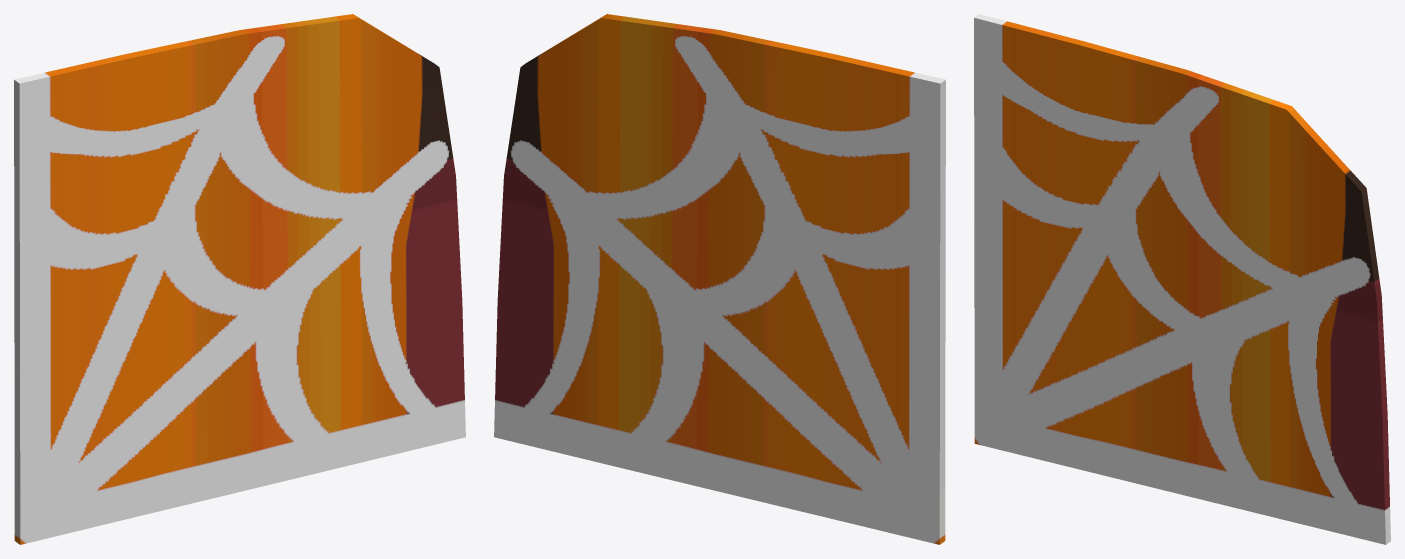
File: Spider_web_5.FBX
3 views of the same model, side by side, from view 1: azimuth 30°, elevation 25°; view 2: azimuth 150°, elevation 25°; view 3: azimuth 330°, elevation 25° (orthographic). The views are drawn at different scales.
Visible parts, largest first — view 1: Spider_web; view 2: Spider_web; view 3: Spider_web.
Part boxes in pixels (box(x1,y1,x2,y2)): Spider_web: box(14, 14, 465, 544); Spider_web: box(494, 14, 945, 544); Spider_web: box(974, 14, 1390, 544).
Size of the model in its own units: 0.4677 by 0.4631 by 0.01.
